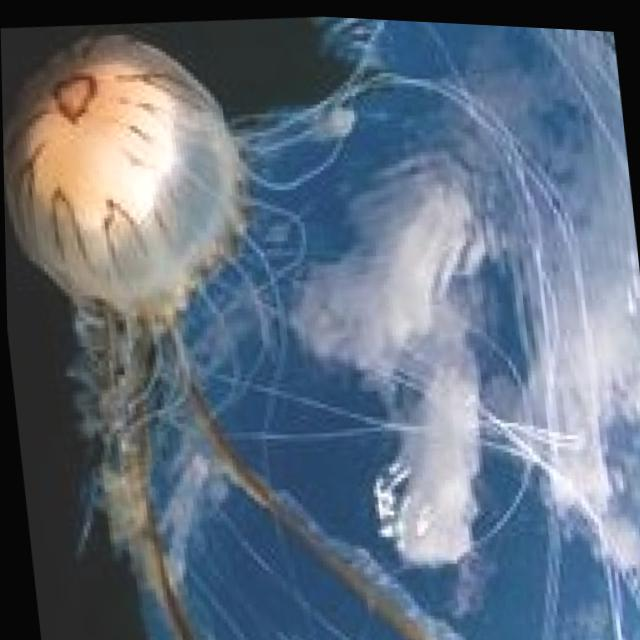Jellyfish: (0, 0, 482, 640)
